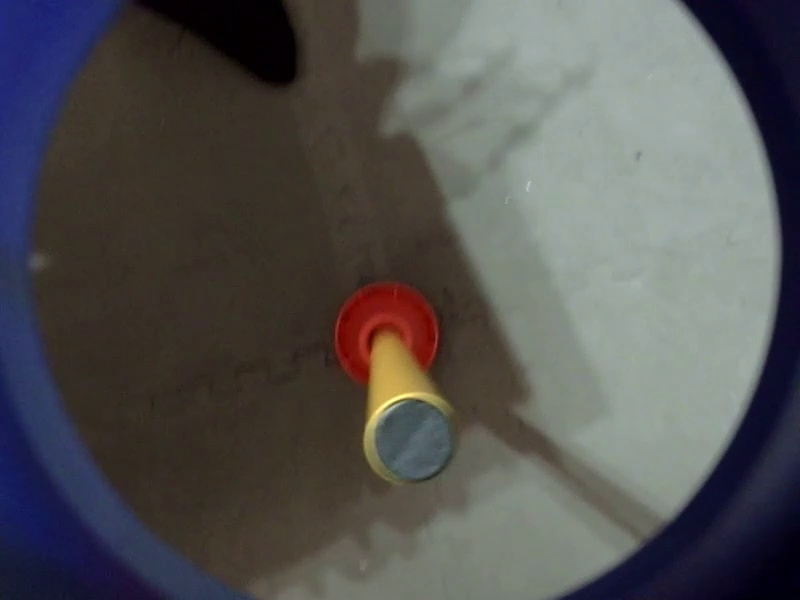tip: (359, 381, 461, 487)
